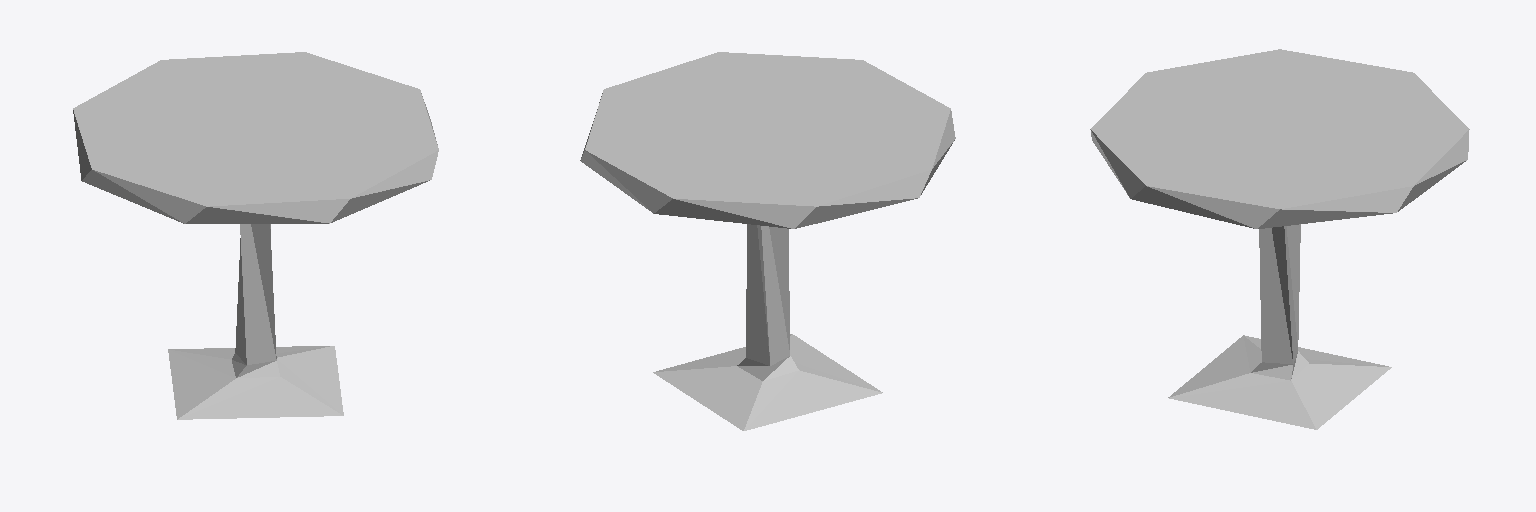
The model's file is table1.obj.
3 views of the same model, side by side, from view 1: azimuth 30°, elevation 25°; view 2: azimuth 150°, elevation 25°; view 3: azimuth 270°, elevation 25° (orthographic).
Parts seen in each view (by area): view 1: Cylinder.023; view 2: Cylinder.023; view 3: Cylinder.023.
Part boxes in pixels (x1,y1,x2,y2): Cylinder.023: (73, 52, 438, 419); Cylinder.023: (580, 52, 955, 430); Cylinder.023: (1090, 49, 1469, 429).
Size of the model in its own units: 0.6656 by 0.4908 by 0.6656.